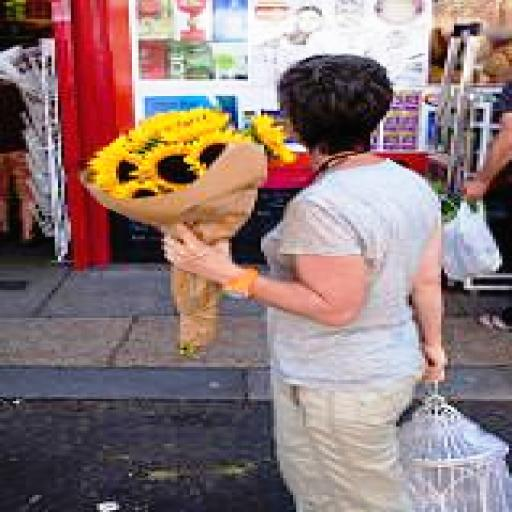sunflower: (136, 141, 210, 188), (94, 150, 152, 196), (193, 134, 235, 166)
